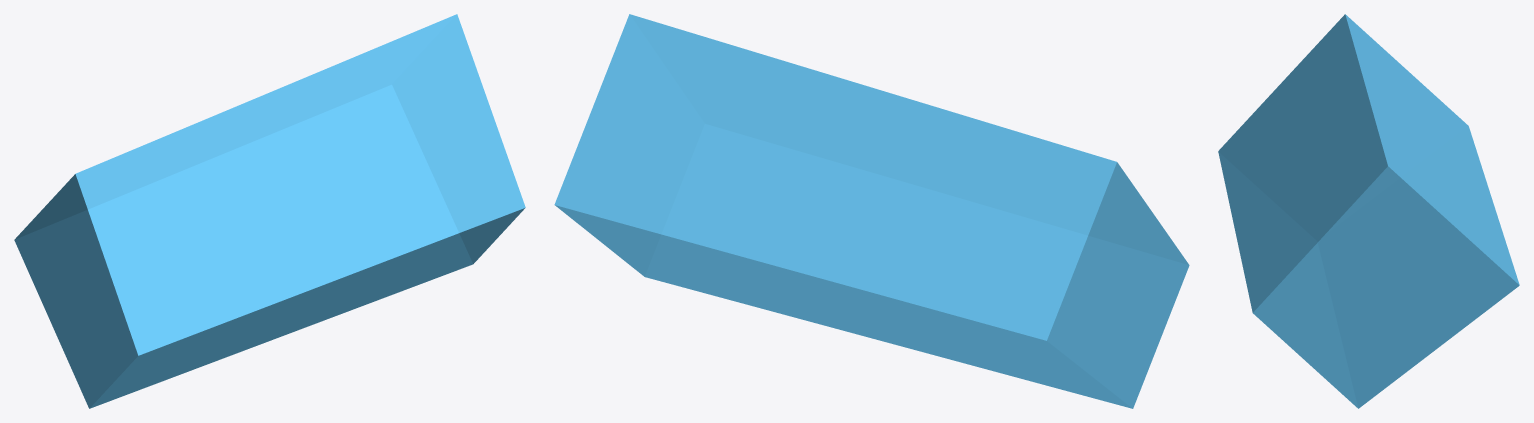
The model's file is Event_420604493_HErechit_22.fbx.
3 views of the same model, side by side, from view 1: azimuth 30°, elevation 25°; view 2: azimuth 150°, elevation 25°; view 3: azimuth 270°, elevation 25° (orthographic). The views are drawn at different scales.
Visible parts, largest first — view 1: Model; view 2: Model; view 3: Model.
Boxes of the visible parts, x1,y1,x2,y2 form: Model: [14, 14, 525, 408]; Model: [554, 14, 1189, 408]; Model: [1218, 14, 1519, 408].
Bounding box in the file's own units: 0.6794 × 0.4349 × 0.4349.
